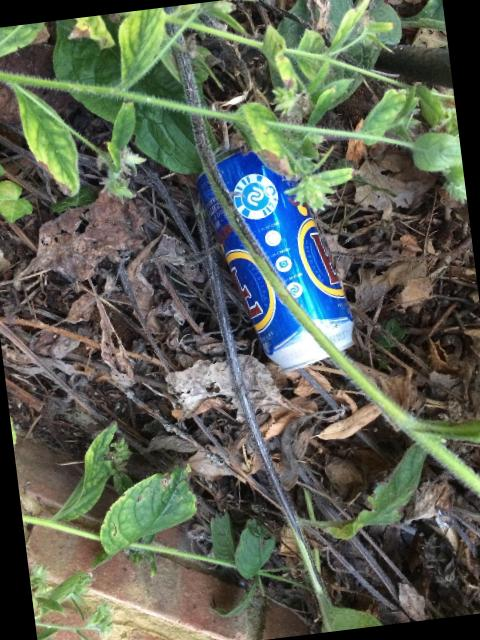metal: (217, 152, 353, 350), (197, 175, 327, 371)
